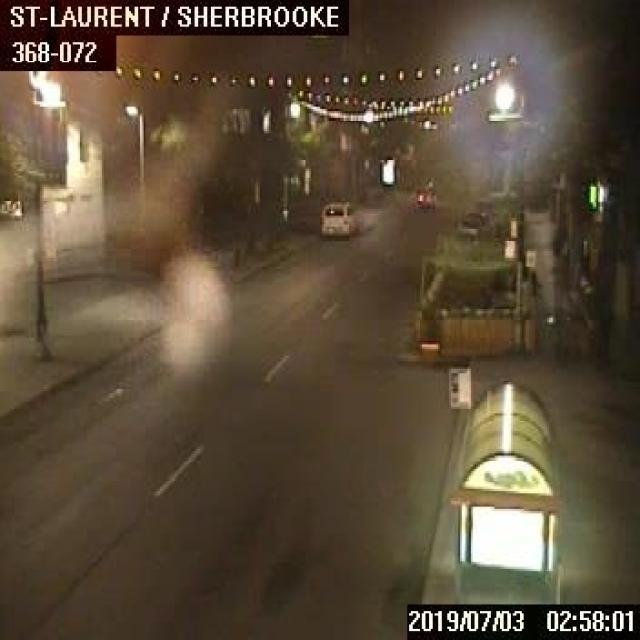vehicle: (318, 200, 355, 236), (457, 208, 494, 238), (413, 183, 436, 209)
